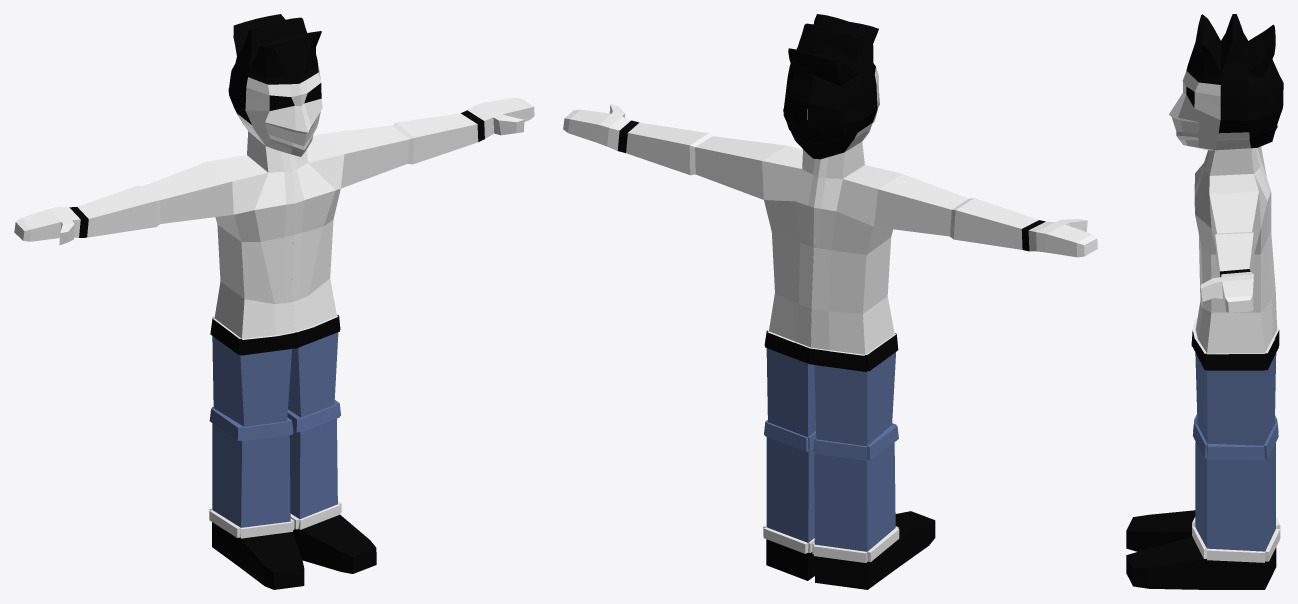
Rendered from White.fbx.
3 views of the same model, side by side, from view 1: azimuth 30°, elevation 25°; view 2: azimuth 150°, elevation 25°; view 3: azimuth 270°, elevation 25° (orthographic). The views are drawn at different scales.
Parts seen in each view (by area): view 1: White; view 2: White; view 3: White.
Part boxes in pixels (x1,y1,x2,y2): White: [14, 14, 534, 589]; White: [563, 14, 1097, 589]; White: [1126, 14, 1283, 589].
Size of the model in its own units: 134 by 131 by 34.67.
